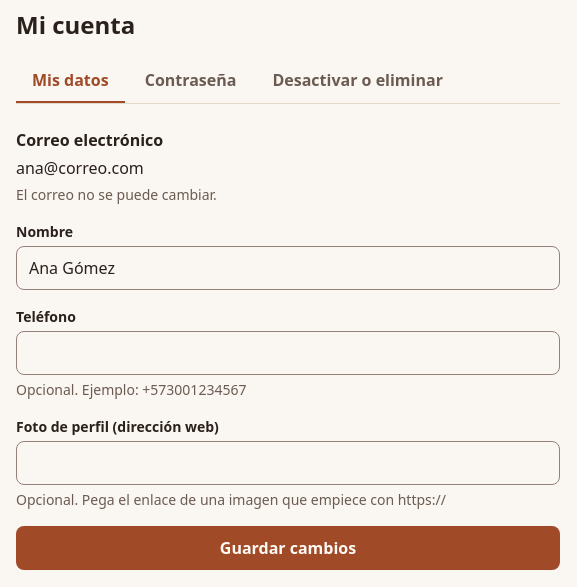
Test: MiCuentaPage › muestra una sección a la vez: empieza en Mis datos y cada pestaña cambia el panel
Expected: the field labelled "Nombre" is shown, [16,246,560,290]
Expected: the field labelled "Contraseña nueva" is not shown
Click the tab "Contraseña" at (191, 81), box [129,59,252,103]
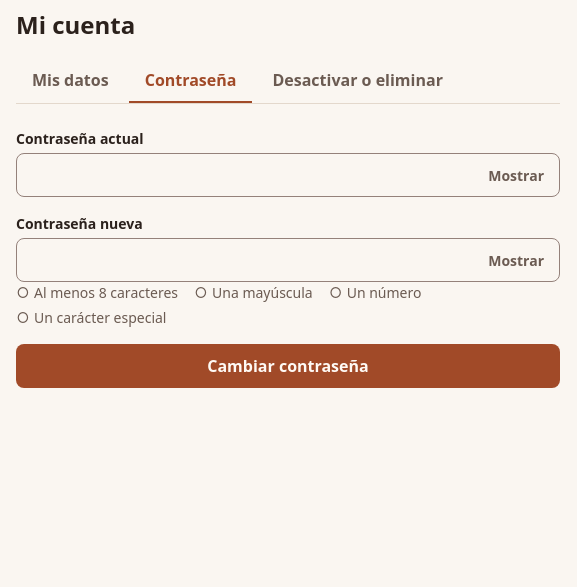
Expected: the panel "Contraseña" is shown, [16,128,560,388]
Expected: the password field labelled "Contraseña nueva" is shown, [16,238,560,282]
Expected: the label labelled "Nombre" is gone
Click the tab "Desactivar o eliminar" at (358, 81), box [256,59,459,103]
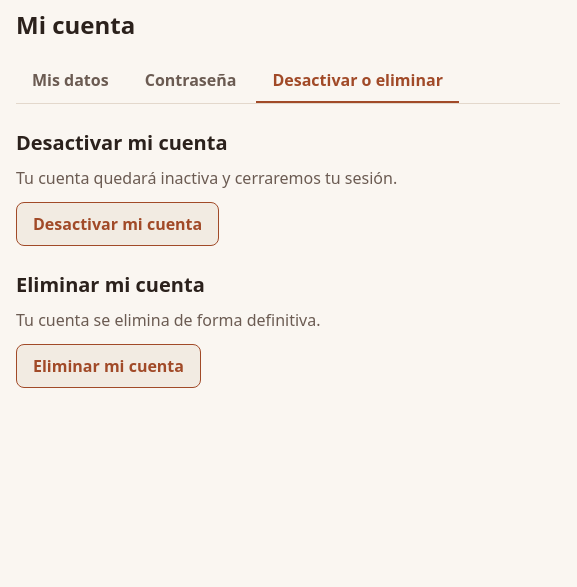
Expected: the button "Desactivar mi cuenta" is shown, [16,202,219,246]
Expected: the label labelled "Contraseña nueva" is gone
